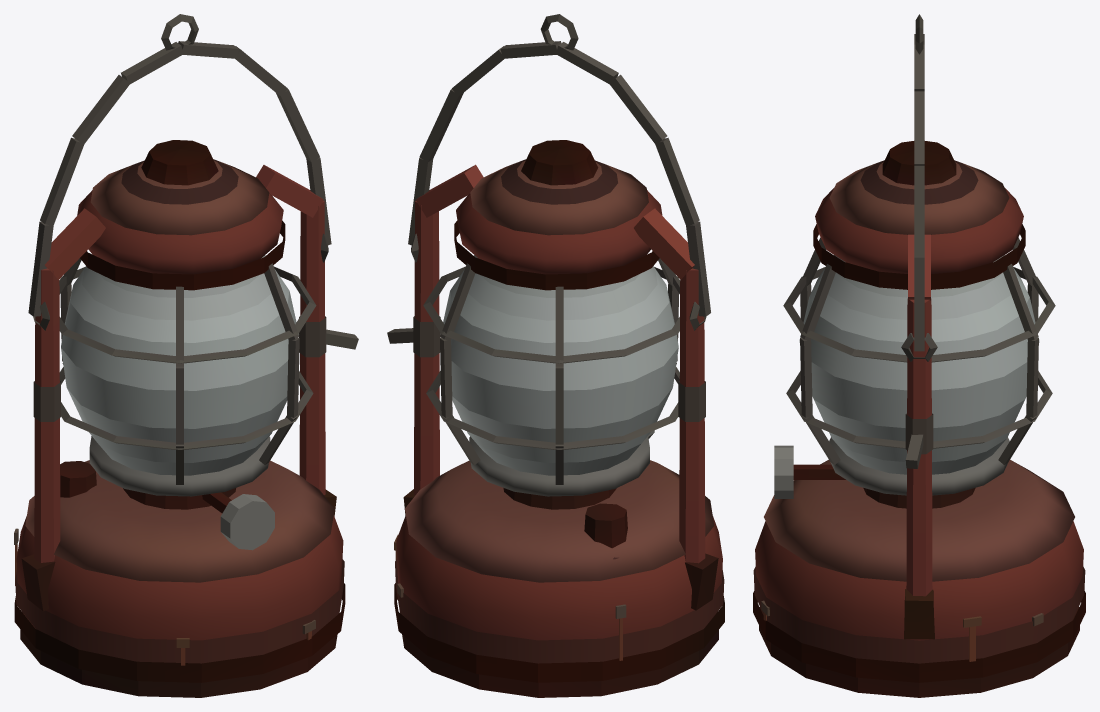
The model's file is lantern_hurricane_v2.glb.
3 renders of one model, left to right at view 1: azimuth 30°, elevation 25°; view 2: azimuth 150°, elevation 25°; view 3: azimuth 270°, elevation 25°, orthographic.
Parts seen in each view (by area): view 1: hb_metal, hb_props; view 2: hb_metal, hb_props; view 3: hb_metal, hb_props.
Boxes of the visible parts, x1=… form: hb_metal: x1=14, y1=14, x2=358, y2=697; hb_props: x1=61, y1=255, x2=298, y2=475; hb_metal: x1=387, y1=14, x2=724, y2=697; hb_props: x1=440, y1=255, x2=678, y2=475; hb_metal: x1=753, y1=14, x2=1085, y2=697; hb_props: x1=799, y1=255, x2=1039, y2=474.
Size of the model in its own units: 0.1935 by 0.3509 by 0.172.
